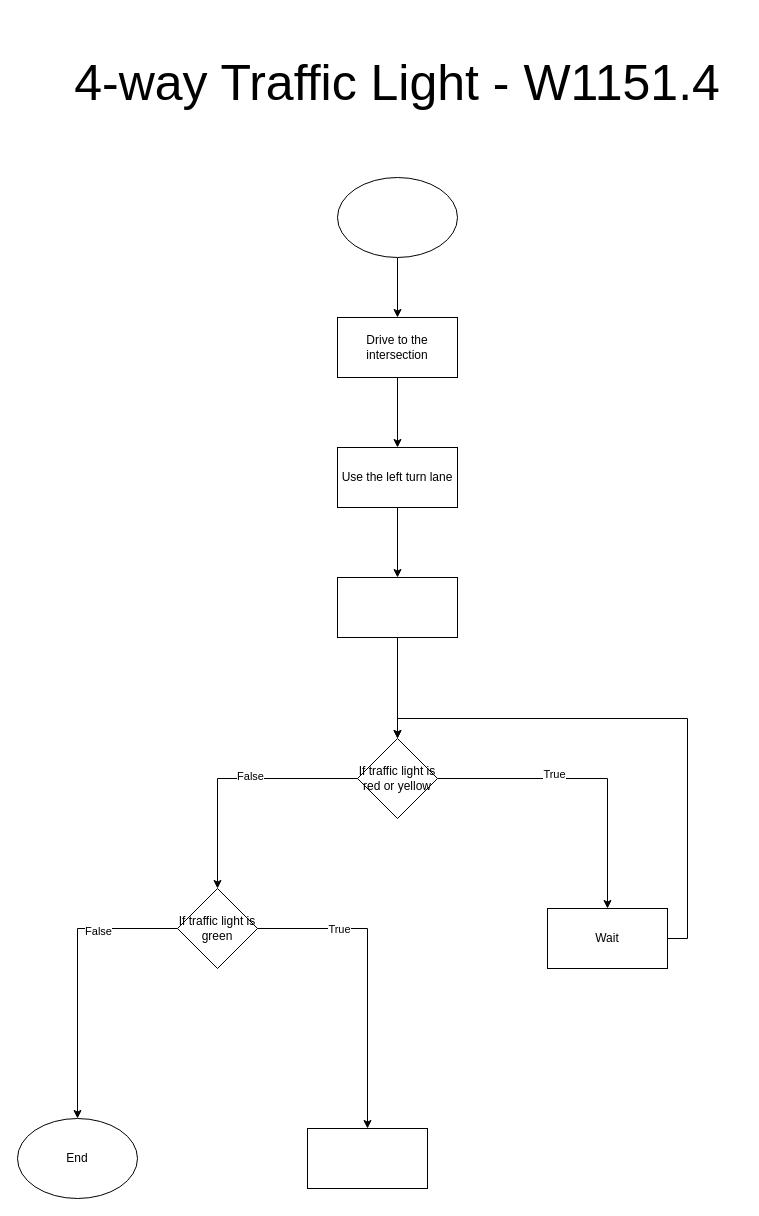
Image size: 759x1216. Some labels were removed from this diagram. The centre of each missing label's shape, as x and y in pixels:
"Cross road" goes at (367,1158).
"Start" goes at (397,217).
"Stop" goes at (397,607).
